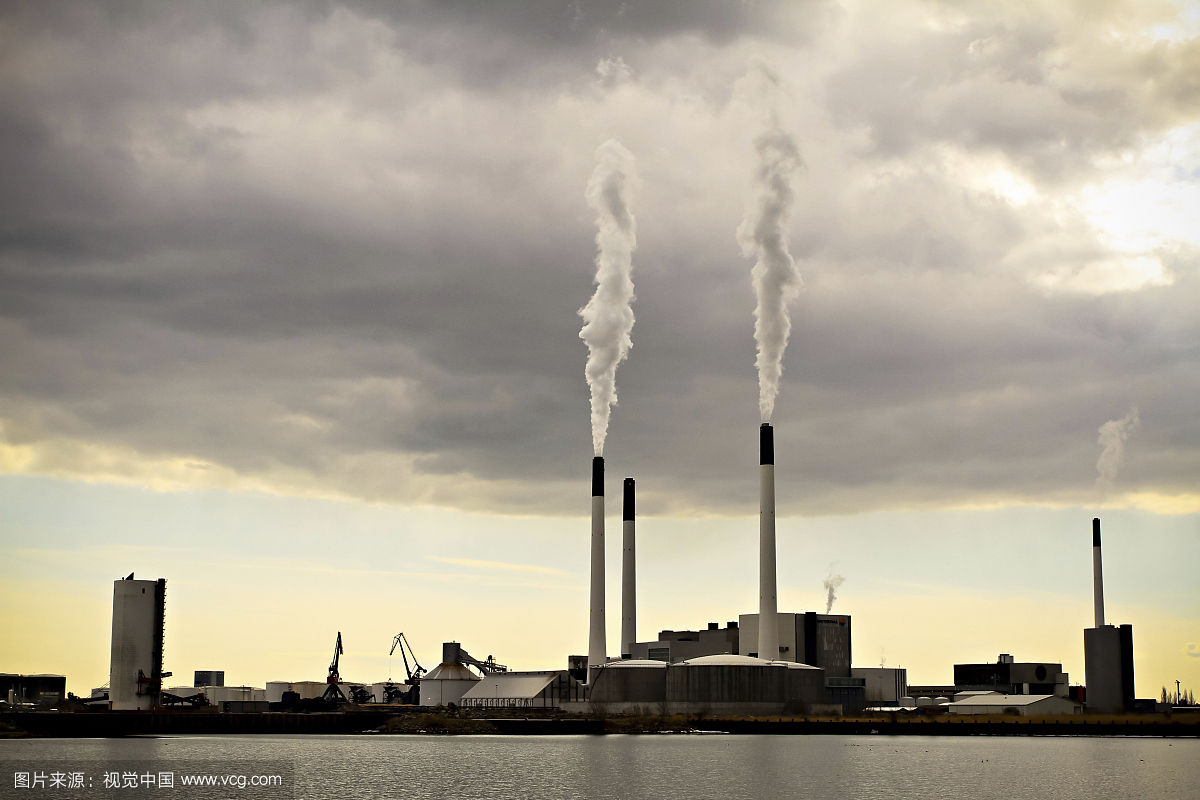dust: (715, 151, 828, 431), (555, 134, 643, 473)
